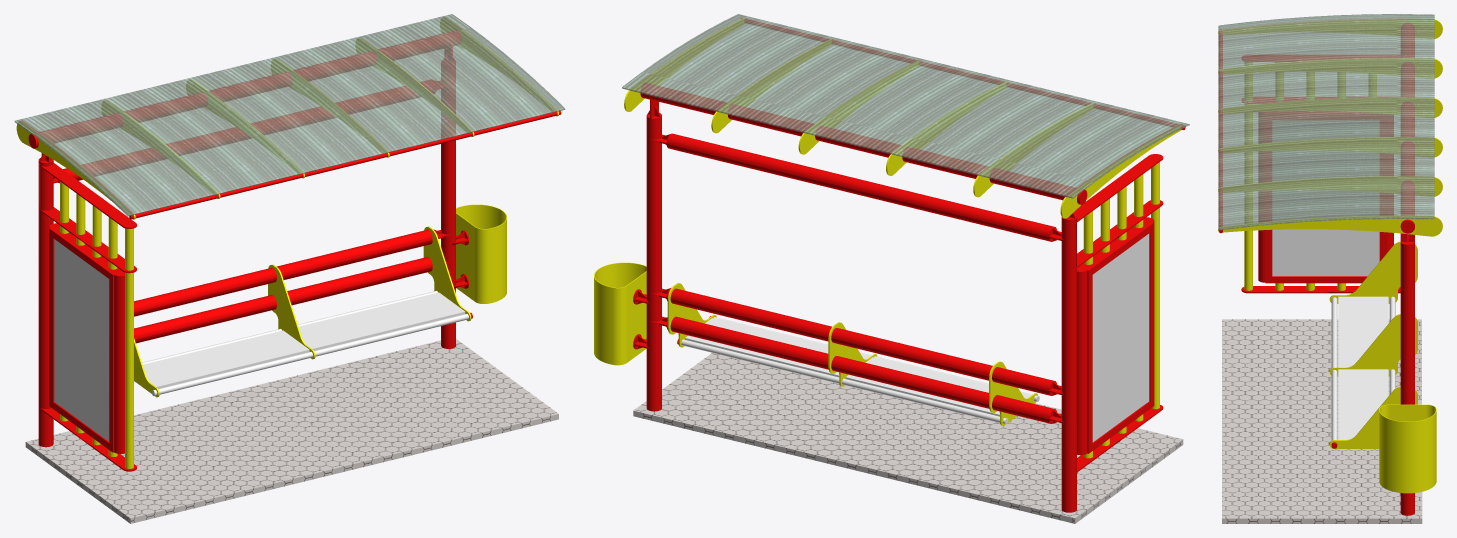
The model's file is parada2.fbx.
3 renders of one model, left to right at view 1: azimuth 30°, elevation 25°; view 2: azimuth 150°, elevation 25°; view 3: azimuth 270°, elevation 25°, orthographic. The views are drawn at different scales.
Visible parts, largest first — view 1: Model, Group11, Group10, Group9, Group15, Group4, Group7, Group3, Group6, Group5, Group12; view 2: Model, Group10, Group11, Group9, Group15, Group4, Group5, Group6, Group7, Group3, Group13, Group12; view 3: Model, Group15, Group3, Group6, Group5, Group4, Group7, Group12, Group13.
Part boxes in pixels (left/top/right/bottom): Model: left=14, top=14, right=565, bottom=523; Group11: left=134, top=229, right=452, bottom=316; Group10: left=49, top=80, right=451, bottom=184; Group9: left=134, top=257, right=452, bottom=343; Group15: left=456, top=204, right=506, bottom=303; Group4: left=356, top=38, right=474, bottom=136; Group7: left=102, top=100, right=220, bottom=198; Group3: left=440, top=18, right=558, bottom=116; Group6: left=186, top=80, right=304, bottom=178; Group5: left=271, top=59, right=389, bottom=157; Group12: left=268, top=264, right=315, bottom=359; Model: left=622, top=14, right=1189, bottom=523; Group10: left=650, top=133, right=1065, bottom=241; Group11: left=650, top=288, right=1065, bottom=395; Group9: left=650, top=316, right=1065, bottom=423; Group15: left=594, top=262, right=646, bottom=365; Group4: left=711, top=39, right=833, bottom=133; Group5: left=798, top=60, right=919, bottom=154; Group6: left=886, top=82, right=1006, bottom=175; Group7: left=973, top=103, right=1094, bottom=197; Group3: left=624, top=18, right=745, bottom=111; Group13: left=989, top=361, right=1037, bottom=425; Group12: left=828, top=322, right=877, bottom=386; Model: left=1218, top=14, right=1442, bottom=523; Group15: left=1379, top=404, right=1436, bottom=493; Group3: left=1218, top=216, right=1442, bottom=236; Group6: left=1218, top=98, right=1442, bottom=117; Group5: left=1218, top=137, right=1442, bottom=157; Group4: left=1218, top=177, right=1442, bottom=196; Group7: left=1218, top=58, right=1442, bottom=78; Group12: left=1329, top=314, right=1417, bottom=376; Group13: left=1329, top=241, right=1417, bottom=303.
Bounding box in the file's own units: 365 × 238 × 157.
